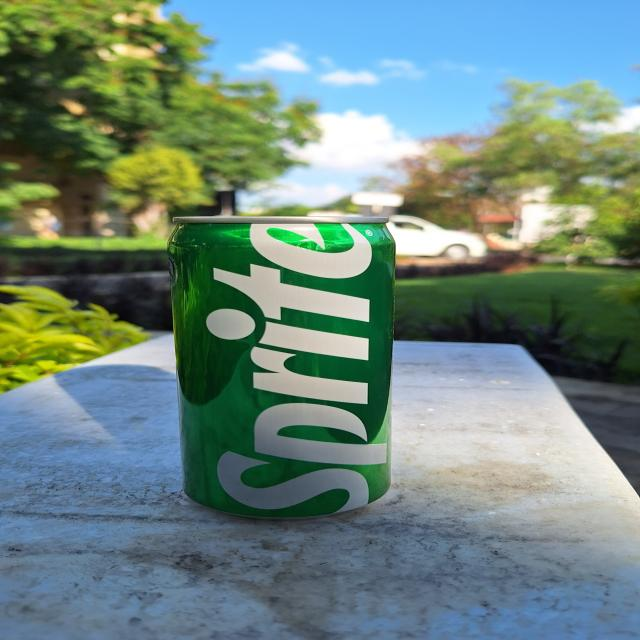Sprite: (179, 210, 405, 516)
